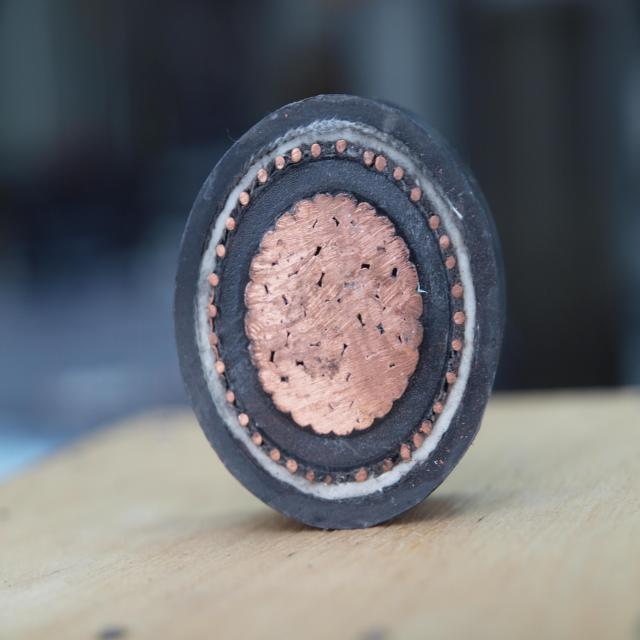wire: (332, 192, 357, 228), (382, 366, 408, 397), (239, 279, 265, 309), (383, 236, 409, 265), (268, 382, 294, 411), (418, 385, 440, 418), (369, 257, 398, 282), (276, 216, 301, 245), (308, 194, 332, 223), (402, 315, 424, 346), (379, 279, 404, 306), (368, 389, 393, 416), (243, 309, 266, 338), (353, 225, 373, 258), (350, 399, 374, 426), (317, 245, 340, 273), (284, 332, 309, 357), (290, 202, 316, 226), (319, 330, 343, 356), (379, 331, 398, 363), (360, 295, 380, 325), (247, 340, 271, 365), (399, 342, 417, 374), (349, 197, 372, 222), (332, 407, 353, 434), (299, 260, 321, 285), (282, 304, 303, 330), (253, 366, 280, 386), (286, 276, 305, 304), (361, 325, 380, 353), (300, 318, 323, 341), (372, 212, 392, 238), (308, 225, 334, 245), (334, 224, 354, 250), (264, 293, 284, 319), (305, 286, 322, 316), (292, 230, 314, 253), (343, 284, 361, 312), (382, 306, 400, 334), (260, 234, 279, 260), (267, 265, 286, 291), (394, 264, 416, 286), (276, 247, 298, 269), (340, 250, 356, 280), (294, 394, 309, 426), (249, 256, 268, 281), (355, 266, 374, 291), (322, 275, 340, 301), (352, 464, 372, 487), (271, 351, 294, 371), (342, 316, 361, 340), (323, 303, 341, 328), (314, 407, 331, 433), (407, 288, 422, 317), (410, 429, 428, 453), (397, 441, 414, 466), (448, 280, 466, 303), (308, 139, 325, 163), (373, 152, 390, 176), (284, 454, 301, 478), (426, 211, 443, 235), (249, 428, 266, 452), (417, 417, 435, 439), (292, 368, 310, 390), (390, 163, 407, 186), (408, 184, 425, 207), (255, 165, 271, 189), (361, 146, 377, 170), (289, 144, 305, 168), (333, 136, 350, 158), (235, 409, 252, 431), (442, 252, 459, 274), (443, 368, 460, 390), (237, 188, 253, 211), (305, 353, 324, 372), (451, 308, 468, 329), (449, 335, 466, 356), (223, 387, 239, 409), (267, 445, 283, 467), (437, 232, 453, 254), (213, 357, 228, 380), (273, 153, 289, 174), (205, 300, 220, 322), (206, 270, 222, 290), (214, 240, 228, 262), (224, 214, 238, 235), (304, 463, 316, 487), (318, 467, 329, 493), (312, 384, 326, 404), (382, 455, 390, 482), (206, 331, 217, 347)
